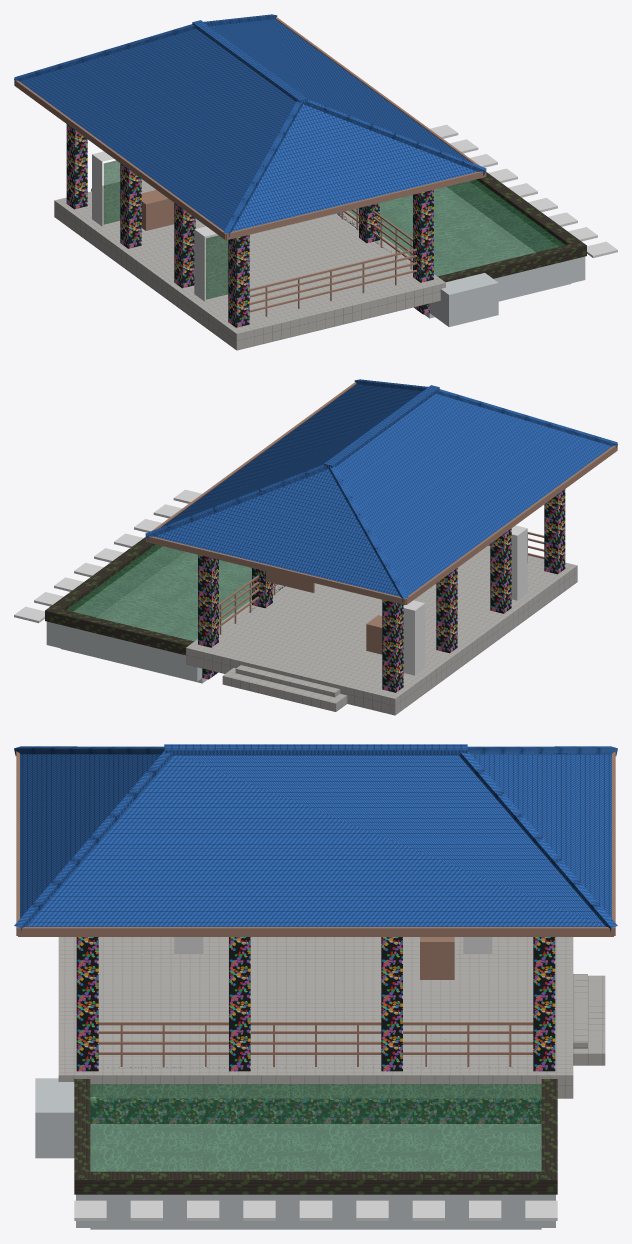
Rendered from pendopo_kolam_ikan.glb.
The picture shows the model from 3 angles, top to bottom: view 1: azimuth 30°, elevation 25°; view 2: azimuth 150°, elevation 25°; view 3: azimuth 270°, elevation 25°; orthographic projection. The views are drawn at different scales.
Parts seen in each view (by area): view 1: Atap_Genteng_Biru, Lantai_Granit_Pendopo, Dinding_Dasar_Kolam_Semen, Air_Kolam_Hijau, Pilar_Dinding_Batu_Mosaik, Pagar_Pembatas_Besi_Coklat, Properti_Lemari_Stepping_Stone, Bibir_Kolam_Balok_Kayu_Semen; view 2: Atap_Genteng_Biru, Lantai_Granit_Pendopo, Dinding_Dasar_Kolam_Semen, Pilar_Dinding_Batu_Mosaik, Air_Kolam_Hijau, Pagar_Pembatas_Besi_Coklat, Properti_Lemari_Stepping_Stone, Bibir_Kolam_Balok_Kayu_Semen; view 3: Atap_Genteng_Biru, Lantai_Granit_Pendopo, Air_Kolam_Hijau, Dinding_Dasar_Kolam_Semen, Pilar_Dinding_Batu_Mosaik, Pagar_Pembatas_Besi_Coklat, Bibir_Kolam_Balok_Kayu_Semen, Properti_Lemari_Stepping_Stone.
Boxes of the visible parts, box(x1,y1,x2,y2) form: Atap_Genteng_Biru: box(14, 14, 486, 237); Lantai_Granit_Pendopo: box(54, 179, 445, 350); Dinding_Dasar_Kolam_Semen: box(349, 181, 585, 326); Air_Kolam_Hijau: box(103, 160, 564, 299); Pilar_Dinding_Batu_Mosaik: box(66, 124, 433, 327); Pagar_Pembatas_Besi_Coklat: box(14, 17, 486, 316); Properti_Lemari_Stepping_Stone: box(92, 124, 617, 301); Bibir_Kolam_Balok_Kayu_Semen: box(438, 172, 586, 282); Atap_Genteng_Biru: box(145, 379, 617, 602); Lantai_Granit_Pendopo: box(186, 545, 577, 715); Dinding_Dasar_Kolam_Semen: box(46, 546, 251, 683); Pilar_Dinding_Batu_Mosaik: box(198, 489, 565, 692); Air_Kolam_Hijau: box(67, 544, 273, 641); Pagar_Pembatas_Besi_Coklat: box(145, 382, 617, 654); Properti_Lemari_Stepping_Stone: box(14, 489, 527, 675); Bibir_Kolam_Balok_Kayu_Semen: box(45, 537, 193, 655); Atap_Genteng_Biru: box(14, 744, 617, 931); Lantai_Granit_Pendopo: box(58, 937, 605, 1098); Air_Kolam_Hijau: box(90, 1084, 541, 1171); Dinding_Dasar_Kolam_Semen: box(35, 1078, 555, 1229); Pilar_Dinding_Batu_Mosaik: box(76, 937, 555, 1123); Pagar_Pembatas_Besi_Coklat: box(16, 751, 615, 1066); Bibir_Kolam_Balok_Kayu_Semen: box(74, 1079, 557, 1194); Properti_Lemari_Stepping_Stone: box(74, 937, 557, 1220).
Bounding box in the file's own units: 11.66 × 6.03 × 10.44.
10 materials, 6 textured.
